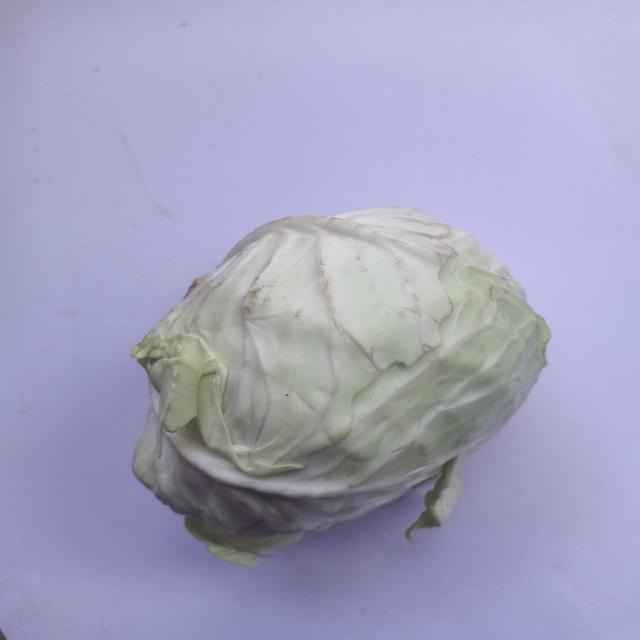Cabbage: (118, 194, 566, 577)
